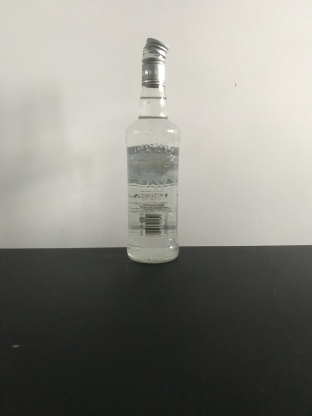nakretka: (140, 34, 170, 88)
